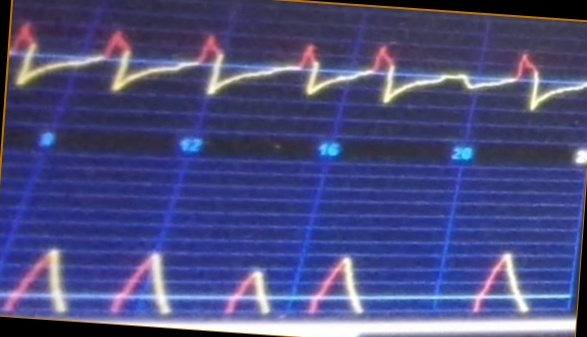Ineffective_effort Flow: (11, 17, 585, 110)
Ineffective_effort Volume: (5, 228, 531, 313)
